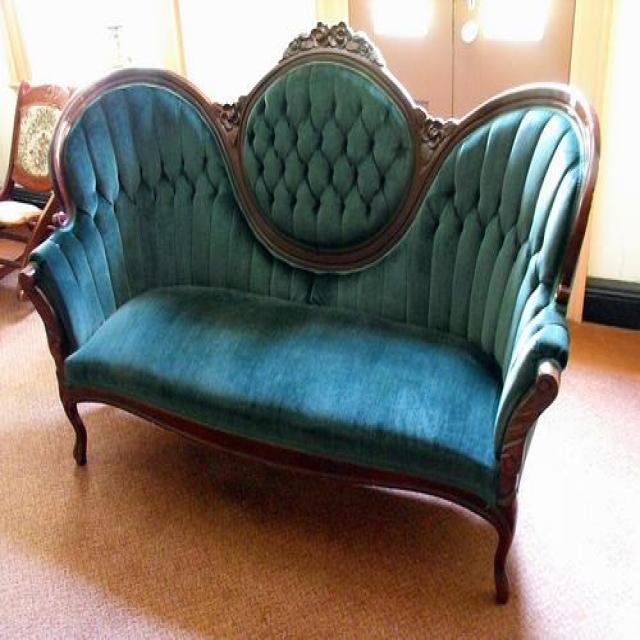sofa: (16, 19, 600, 604)
